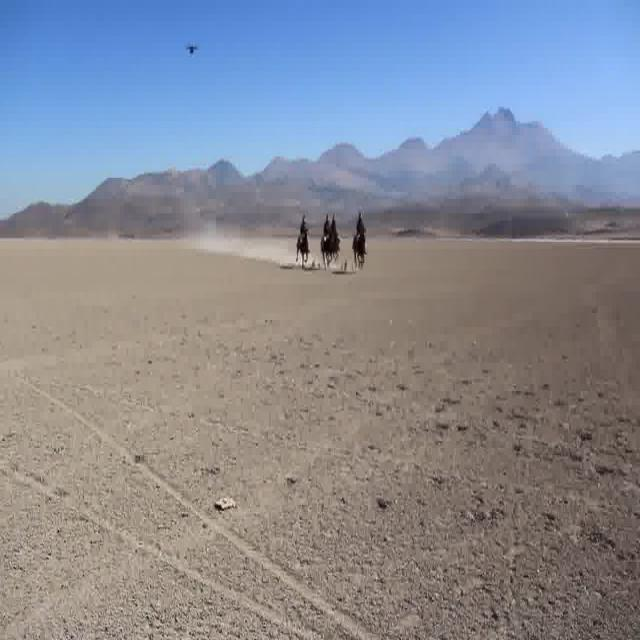drones: (181, 33, 204, 67)
